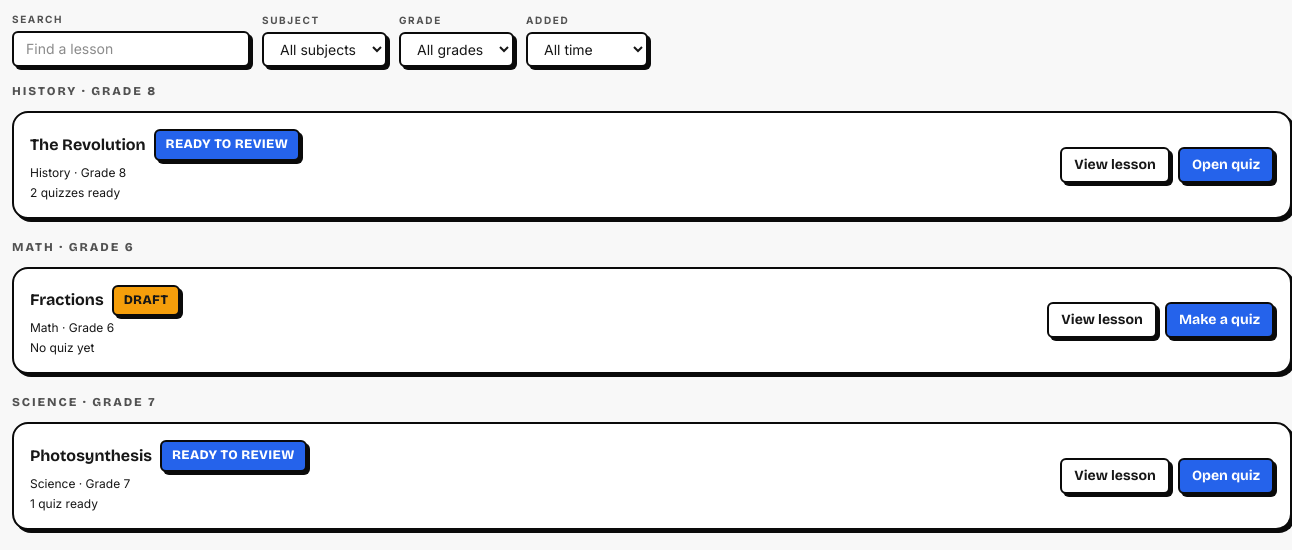
it: LessonLibrary › the search box narrows the list by title
Type "fraction" into the search field at (131,49), box [12,31,250,67]
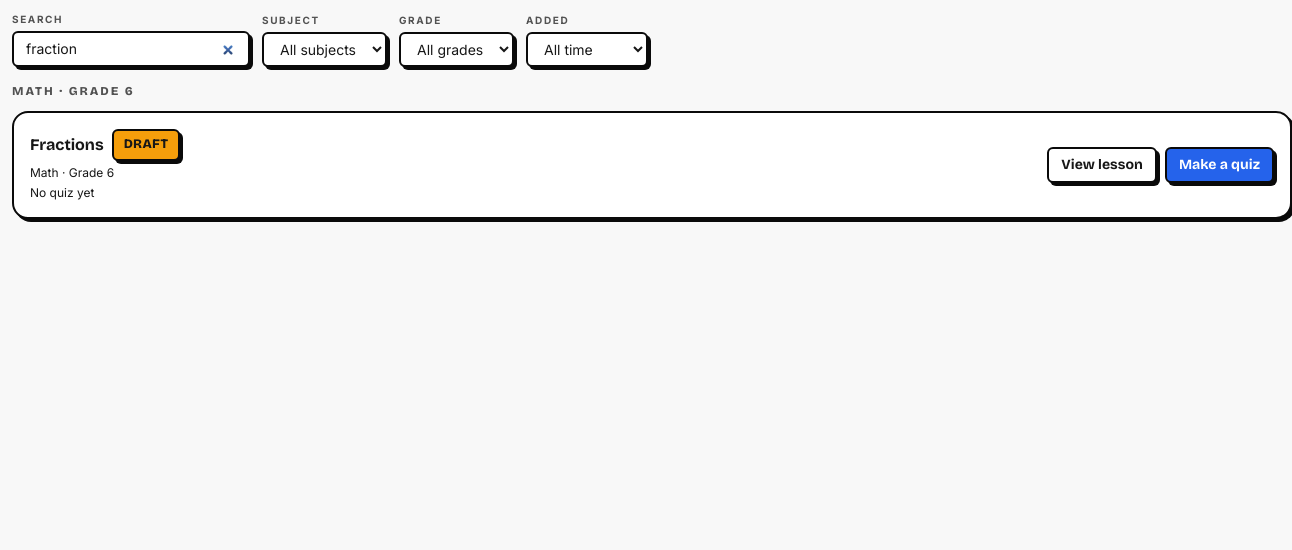
expect the heading "Fractions" is shown: met, box [30,133,104,157]
expect the heading "Photosynthesis" is gone: met
expect the heading "The Revolution" is gone: met
